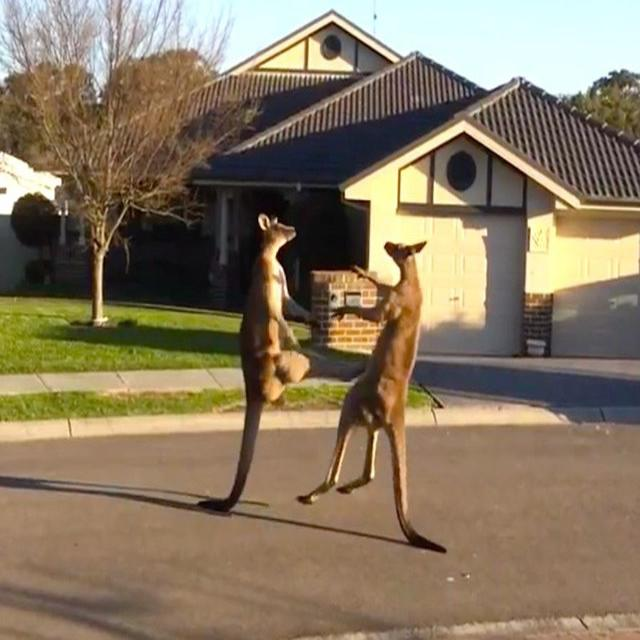kangaroo: (312, 235, 430, 515), (226, 210, 308, 527)
